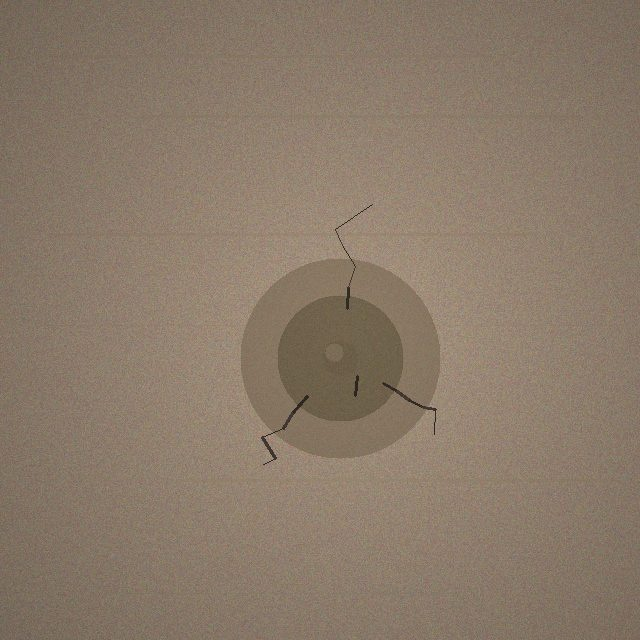crack: (240, 258, 440, 458)
